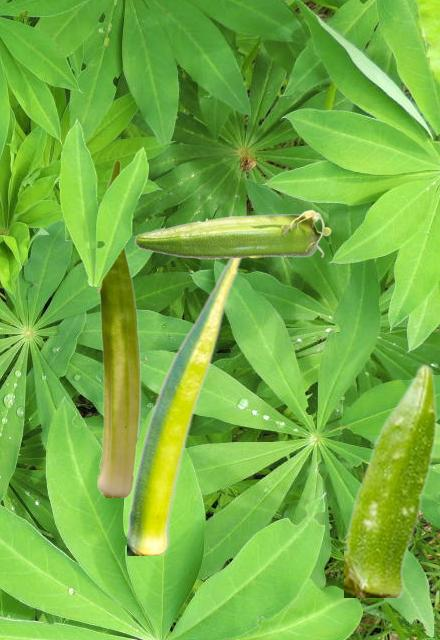okra: (127, 259, 243, 554), (344, 362, 437, 596), (97, 159, 140, 496), (134, 209, 330, 258)
